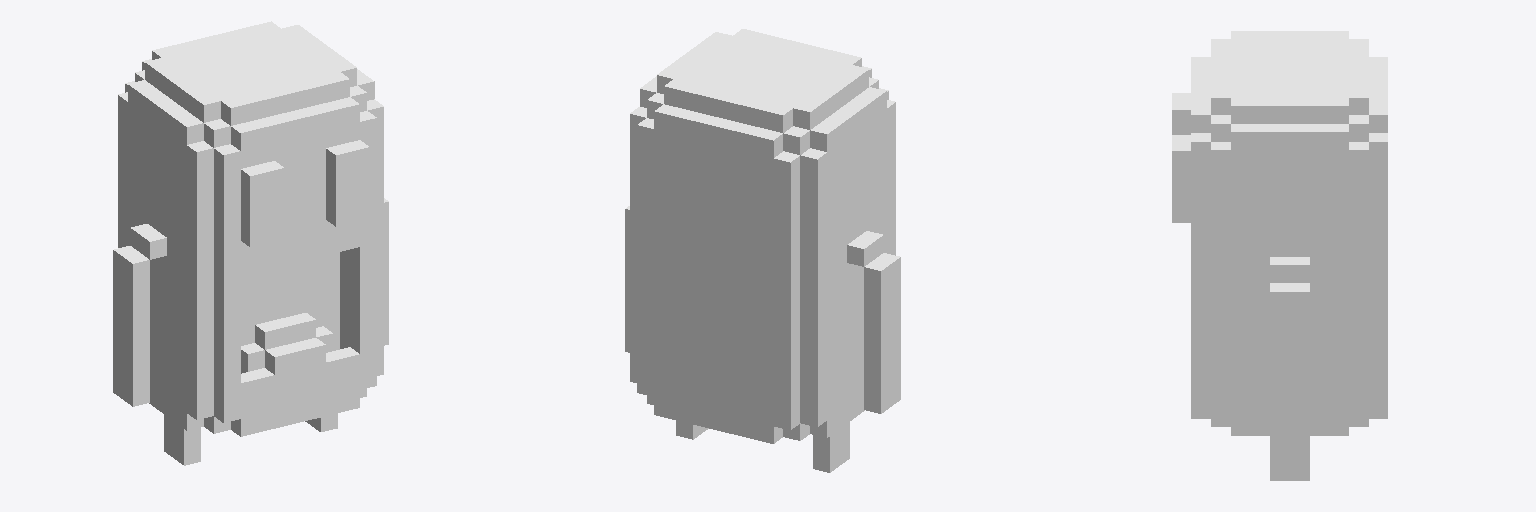
Rendered from FreakingOutGuy_Idle5.obj.
The picture shows the model from 3 angles: view 1: azimuth 30°, elevation 25°; view 2: azimuth 150°, elevation 25°; view 3: azimuth 270°, elevation 25°; orthographic projection.
Parts seen in each view (by area): view 1: object 1; view 2: object 1; view 3: object 1.
Boxes of the visible parts, box(x1,y1,x2,y2) form: object 1: box(113, 21, 388, 465); object 1: box(625, 29, 900, 472); object 1: box(1172, 31, 1387, 480).
Size of the model in its own units: 1.5 by 2.1 by 1.1.